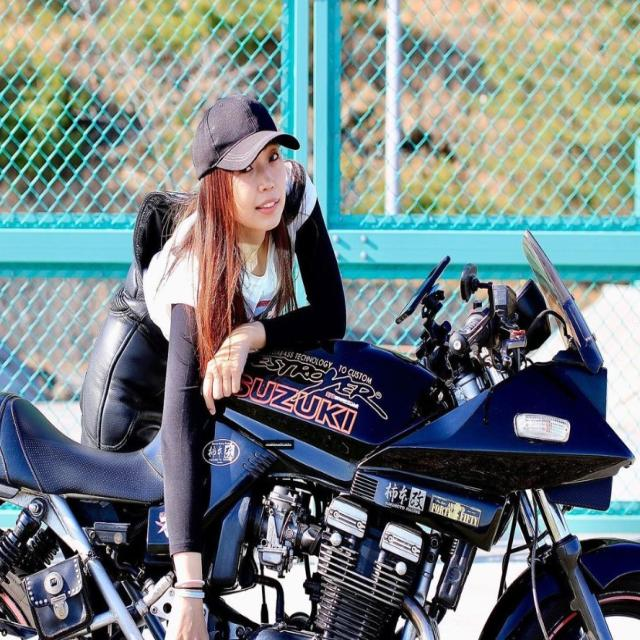illegal_helmet: (189, 90, 305, 237)
